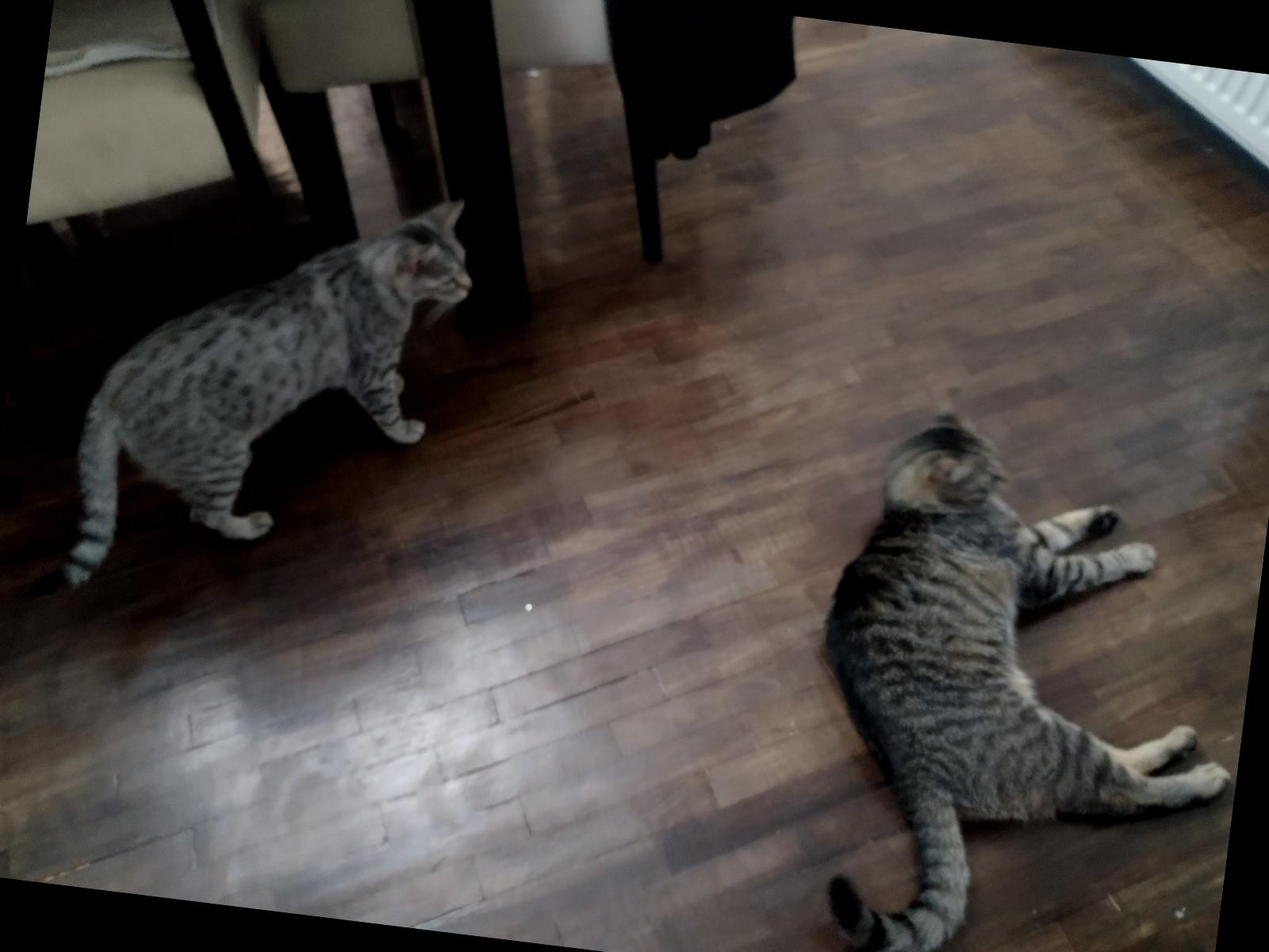macka: (781, 377, 1269, 952), (17, 149, 483, 653)
